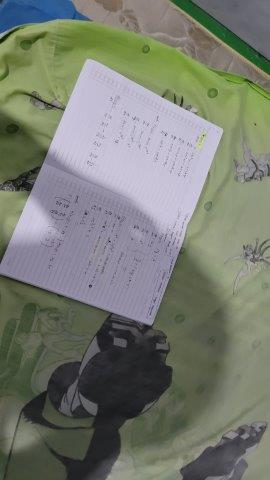kertas: (2, 60, 223, 327)
